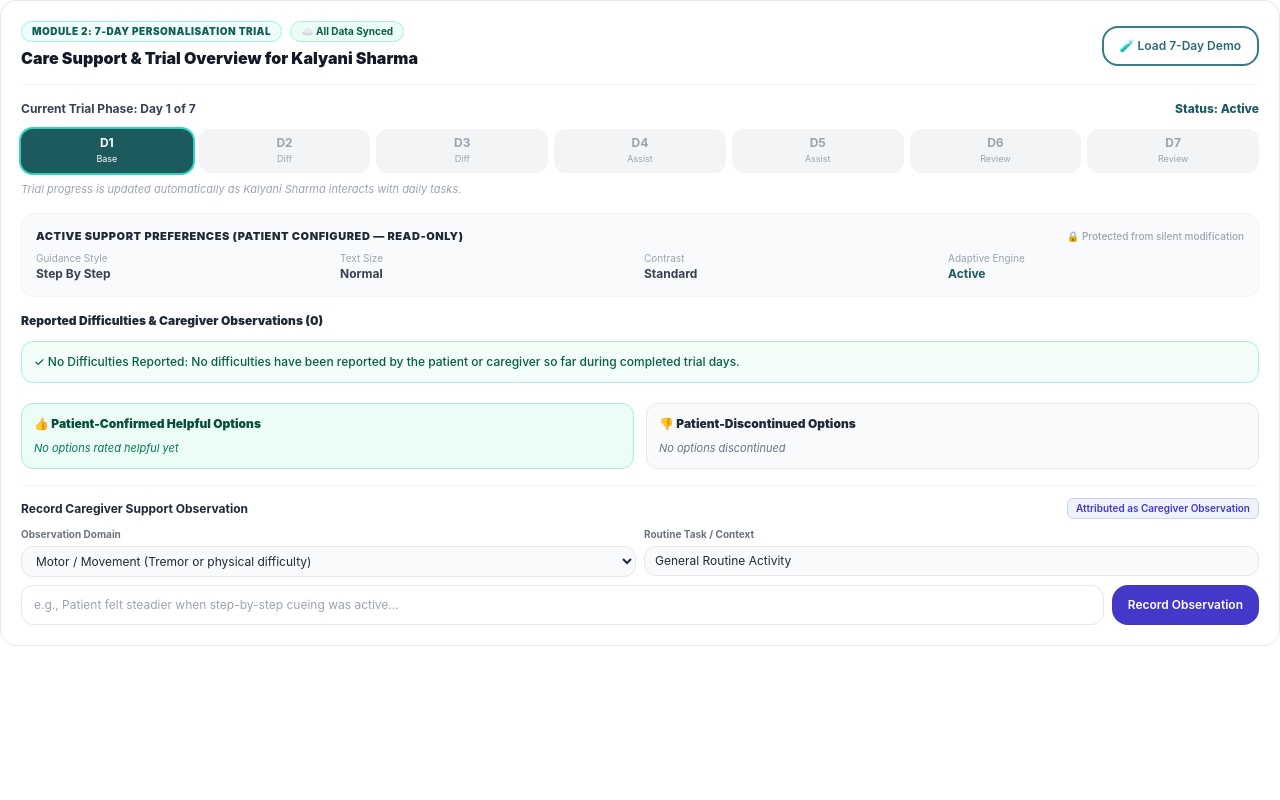
Scenario: Priority 3: Caregiver & Clinician Dashboard Integration › 6. Caregiver observation entry: allows recording observations attributed to caregiver without altering patient baseline
Select "Motor / Movement (Tremor or physical difficulty)" in the dropdown labelled "Observation Domain": (328, 562) [21, 546, 636, 577]
Replace the text in the field labelled "Routine Task / Context" with "Afternoon Walking Drill": (952, 561) [644, 546, 1259, 576]
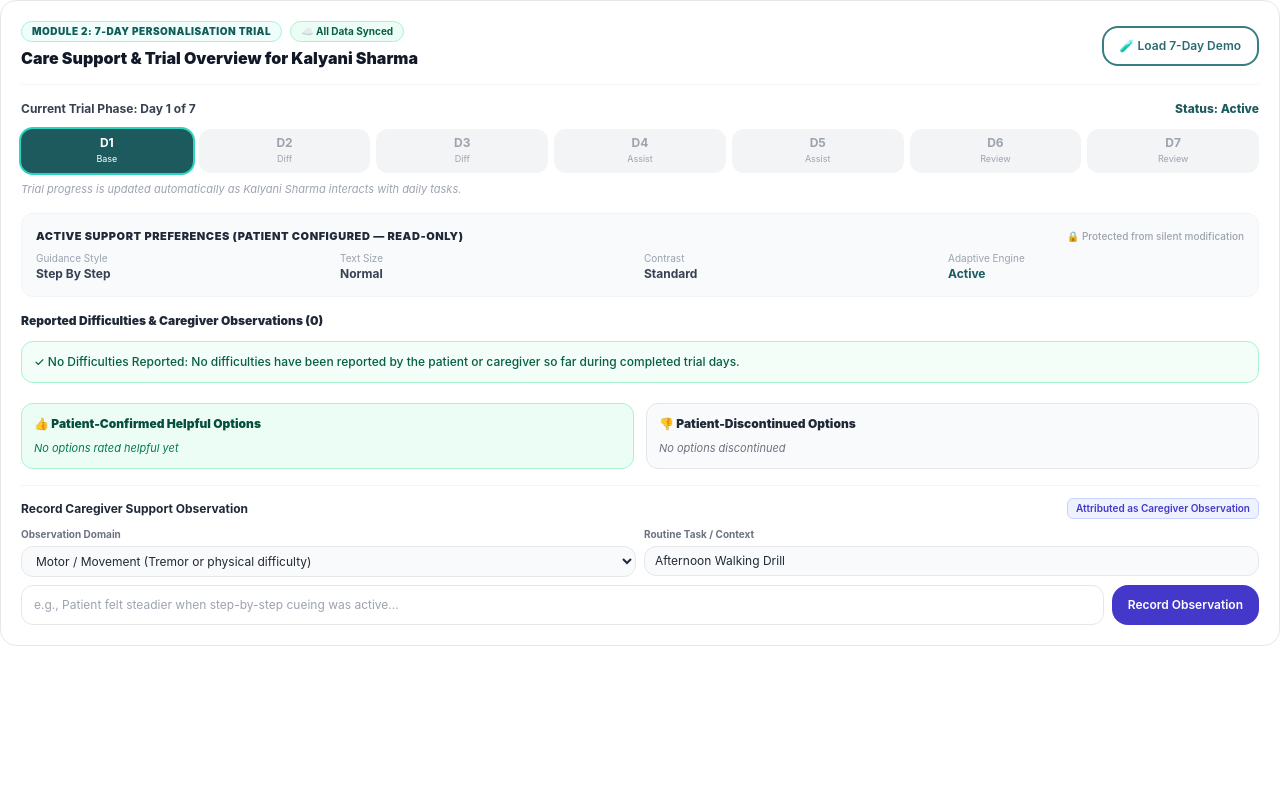
Replace the text in the field named "Observation Description" with "Patient hesitated before doorway turn.": (562, 605) [21, 585, 1104, 625]
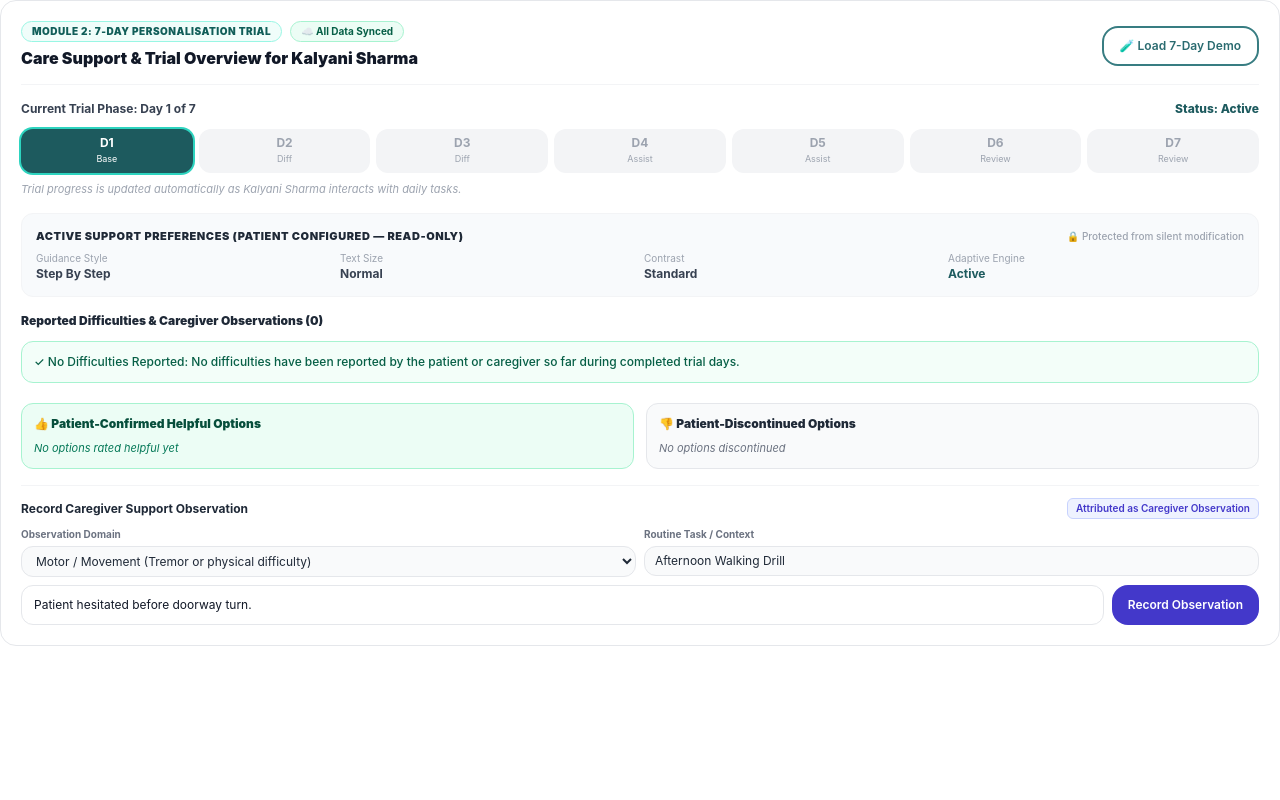
Click the button "Record Observation": (1185, 605) [1112, 585, 1259, 625]
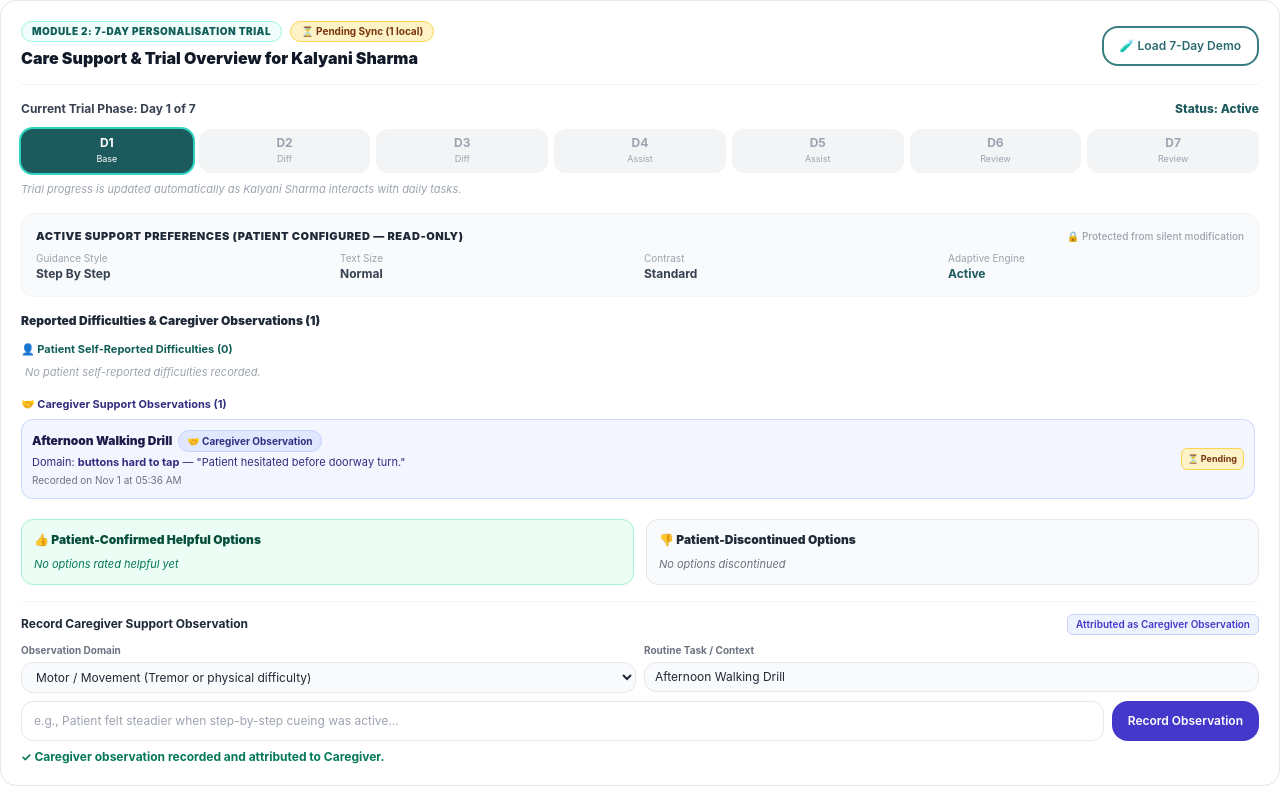
Expected: the text "Caregiver observation recorded and attributed to Caregiver" is shown, [21, 749, 384, 764]
Expected: the text "Afternoon Walking Drill" is shown, [32, 433, 172, 449]
